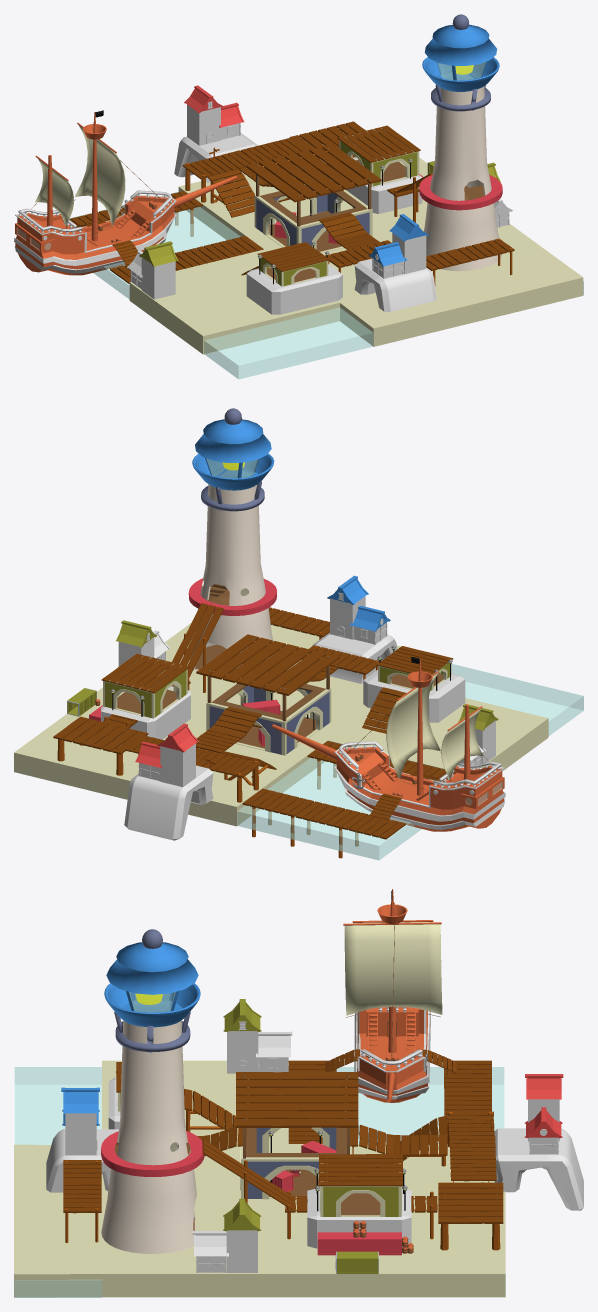
File: Shipment3.fbx
3 renders of one model, top to bottom at view 1: azimuth 30°, elevation 25°; view 2: azimuth 150°, elevation 25°; view 3: azimuth 270°, elevation 25°, orthographic. The views are drawn at different scales.
Visible parts, largest first — view 1: Floor, Water, Cube.002, Body, Cube, Cube.116, Cube.007, Cylinder.003, Plane, Cube.001, Cube.309, Cube.084 (+23 smaller); view 2: Floor, Water, Cube.002, Body, Cube.309, Cube, Plane, Cylinder.003, Cube.116, Cube.101, Cube.001, Cube.084 (+22 smaller); view 3: Floor, Cube.002, Water, Plane, Body, Cube.309, Cylinder.003, Cube, Cube.084, Cube.001, Cube.101, Cube.003 (+28 smaller).
Part boxes in pixels (x1=…): Floor: x1=129, y1=157, x2=583, y2=354; Water: x1=69, y1=191, x2=583, y2=379; Cube.002: x1=423, y1=86, x2=501, y2=271; Body: x1=14, y1=194, x2=176, y2=275; Cube: x1=254, y1=184, x2=372, y2=253; Cube.116: x1=246, y1=264, x2=342, y2=314; Cube.007: x1=354, y1=258, x2=436, y2=311; Cylinder.003: x1=424, y1=24, x2=496, y2=65; Plane: x1=74, y1=125, x2=125, y2=225; Cube.001: x1=422, y1=57, x2=499, y2=91; Cube.309: x1=174, y1=133, x2=257, y2=182; Cube.084: x1=346, y1=157, x2=422, y2=213; Floor: x1=14, y1=623, x2=548, y2=826; Water: x1=237, y1=664, x2=583, y2=860; Cube.002: x1=190, y1=484, x2=273, y2=672; Body: x1=334, y1=746, x2=505, y2=831; Cube.309: x1=124, y1=765, x2=213, y2=840; Cube: x1=206, y1=681, x2=331, y2=755; Plane: x1=386, y1=673, x2=440, y2=779; Cylinder.003: x1=195, y1=419, x2=271, y2=462; Cube.116: x1=363, y1=669, x2=465, y2=722; Cube.101: x1=103, y1=656, x2=187, y2=718; Cube.001: x1=192, y1=453, x2=274, y2=490; Cube.084: x1=101, y1=686, x2=190, y2=739; Floor: x1=14, y1=1060, x2=505, y2=1297; Cube.002: x1=101, y1=1020, x2=196, y2=1253; Water: x1=14, y1=1067, x2=504, y2=1297; Plane: x1=344, y1=924, x2=442, y2=1015; Body: x1=354, y1=1007, x2=430, y2=1102; Cube.309: x1=494, y1=1128, x2=583, y2=1210; Cylinder.003: x1=106, y1=942, x2=198, y2=994; Cube: x1=241, y1=1127, x2=351, y2=1198; Cube.084: x1=307, y1=1189, x2=411, y2=1248; Cube.001: x1=104, y1=983, x2=200, y2=1027; Cube.101: x1=320, y1=1163, x2=401, y2=1216; Cube.003: x1=101, y1=1131, x2=204, y2=1176.
Size of the model in its own units: 11148 by 7053 by 10673.
